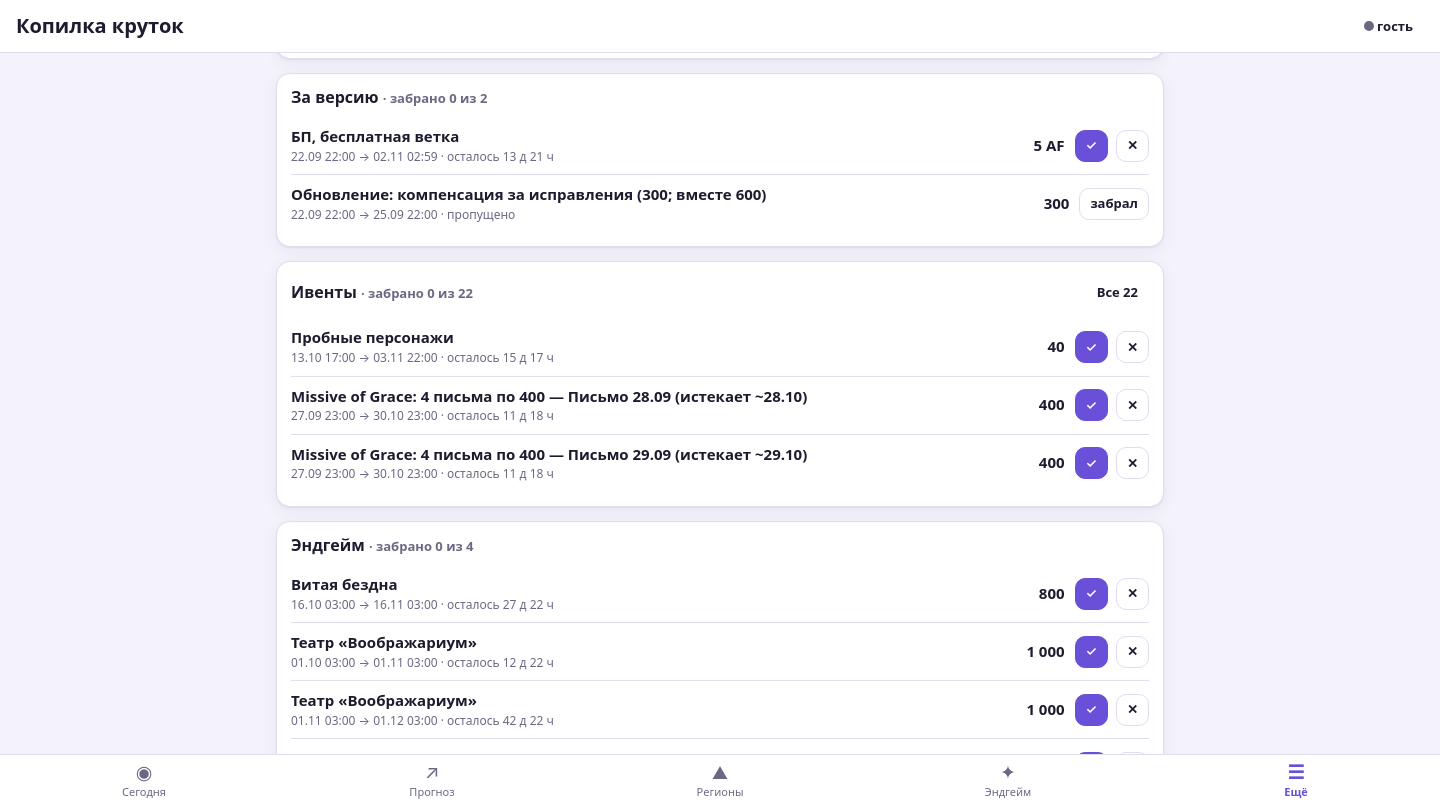
Scenario: M4: «Версия» › группы вхождений текущей версии и счётчик «забрано X из Y»
(page scrolled)
What coordinates should you click on to do the following:
click the button named "Забрал: Missive of Grace: 4 письма по 400 — Письмо 28.09 (истекает ~28.10)"
I would click on:
 (1091, 405)
Its box is [1075,389,1108,421].
(page scrolled)
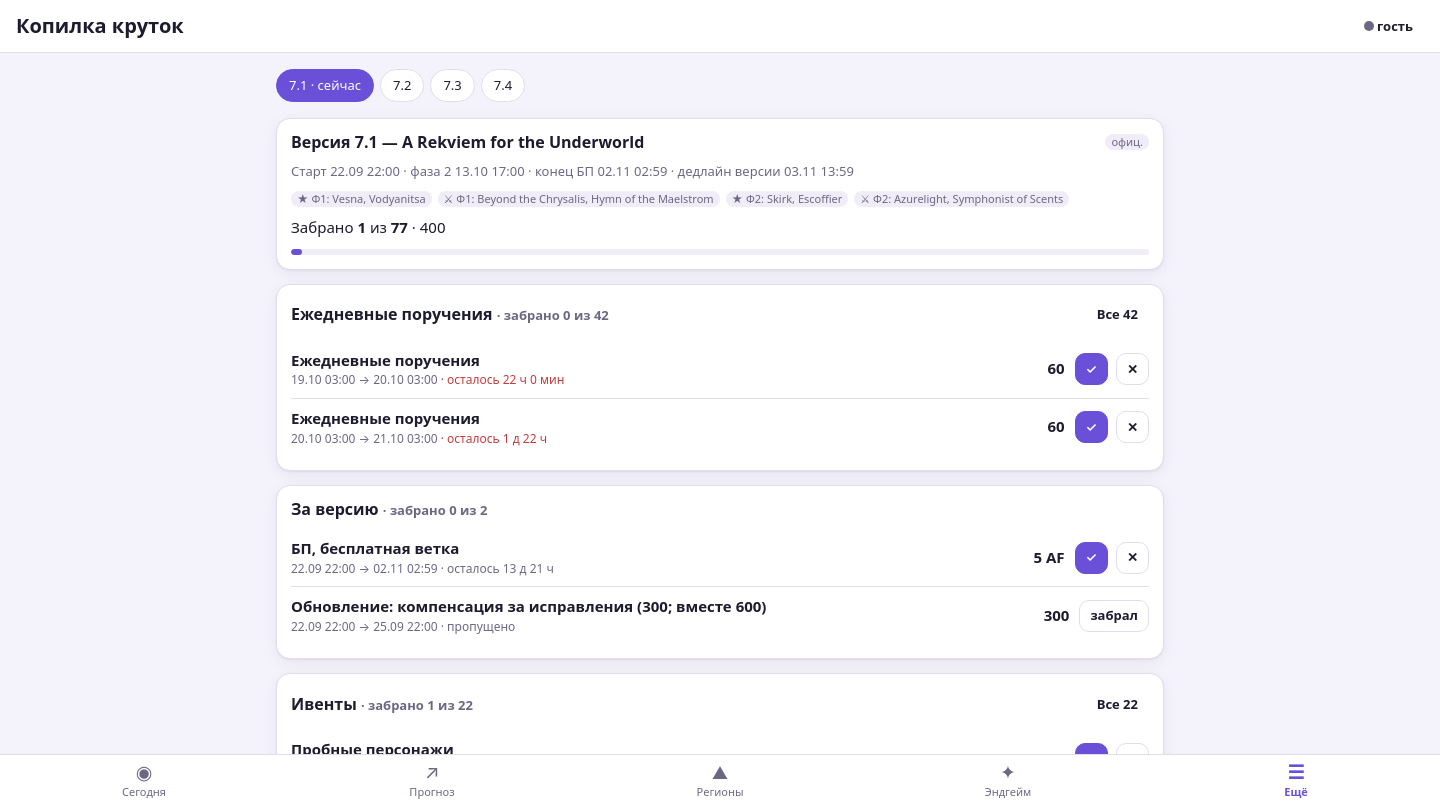
Now the text with test id "version-claimed" reads "1", box [357,217,366,237]
